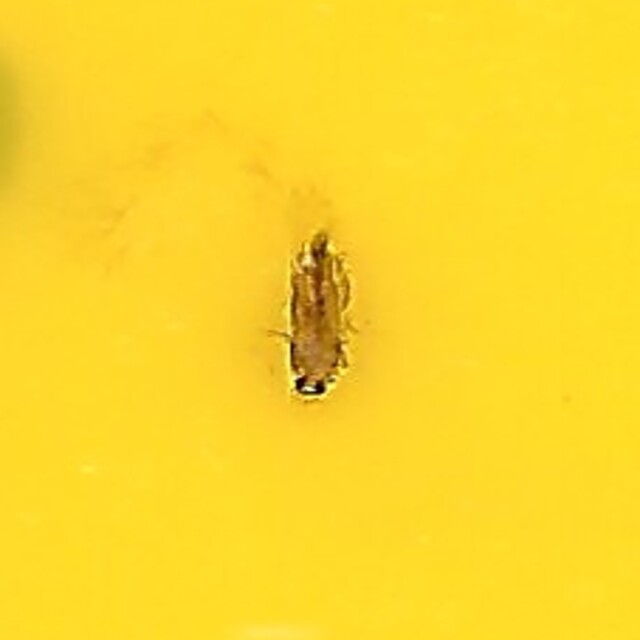Trichoptera: (282, 226, 358, 414)
